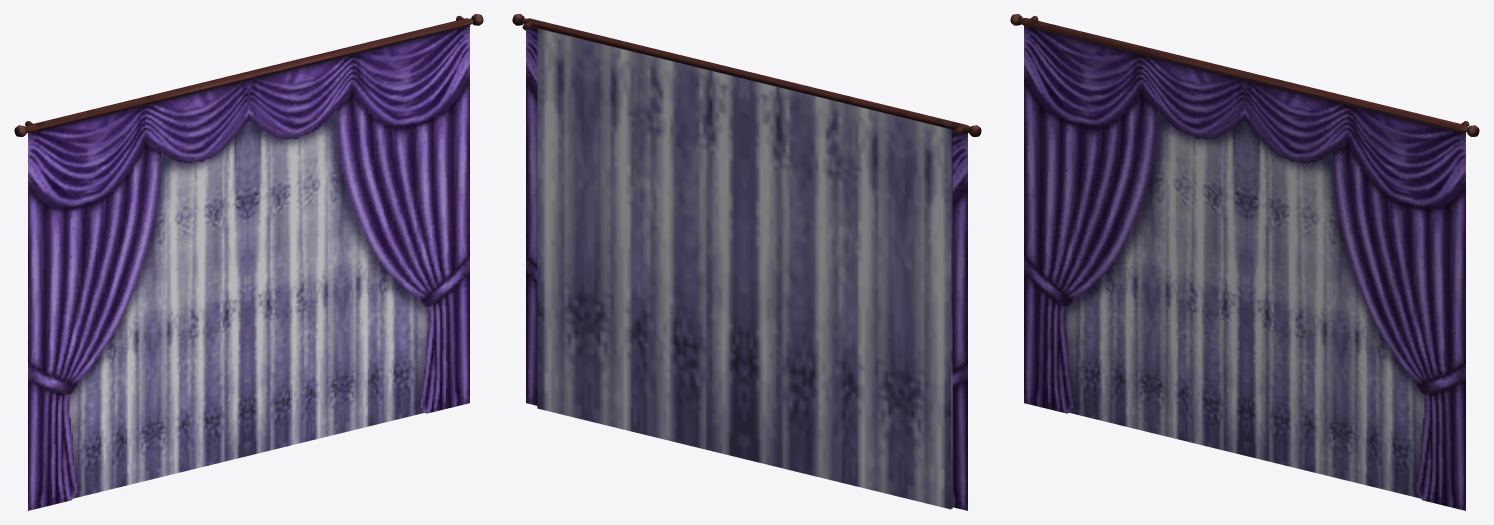
Rendered from furni_0201138.FBX.
3 renders of one model, left to right at view 1: azimuth 30°, elevation 25°; view 2: azimuth 150°, elevation 25°; view 3: azimuth 330°, elevation 25°, orthographic.
Parts seen in each view (by area): view 1: furni_0201138; view 2: furni_0201138; view 3: furni_0201138.
Boxes of the visible parts, left/top/right/bottom form: furni_0201138: left=14, top=14, right=483, bottom=510; furni_0201138: left=512, top=14, right=981, bottom=510; furni_0201138: left=1010, top=14, right=1479, bottom=510.
Bounding box in the file's own units: 353 × 279 × 12.24.
2 materials, 2 textured.
